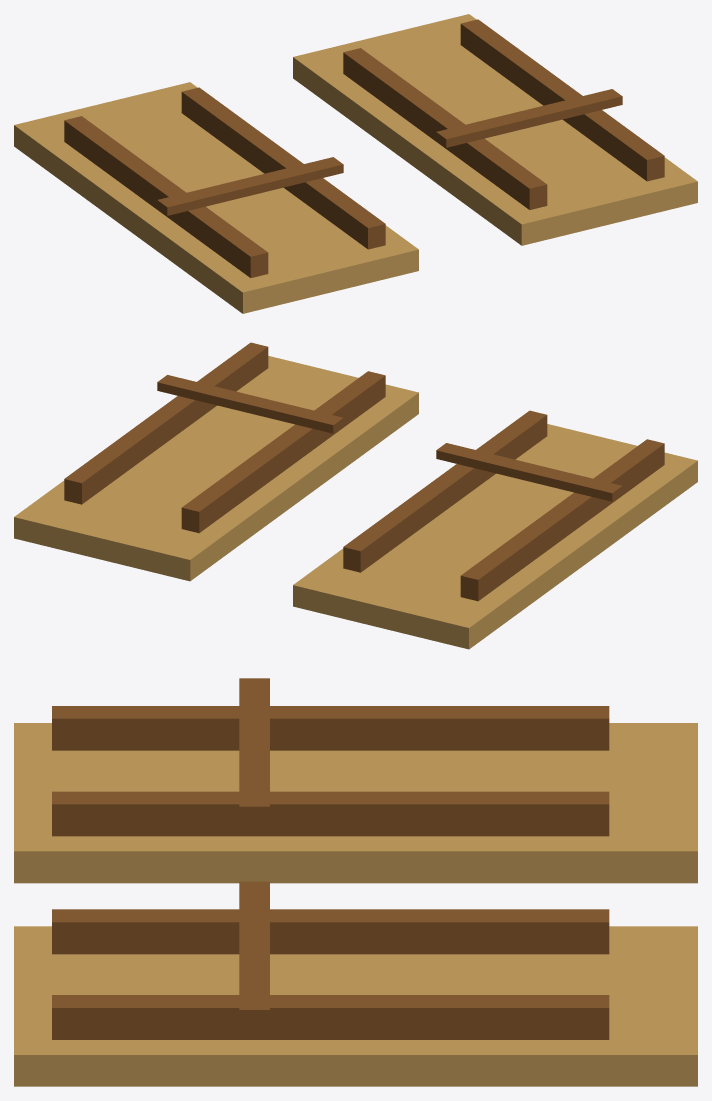
The model's file is shoes_ancient_1.glb.
3 renders of one model, top to bottom at view 1: azimuth 30°, elevation 25°; view 2: azimuth 150°, elevation 25°; view 3: azimuth 270°, elevation 25°, orthographic. The views are drawn at different scales.
Size of the model in its own units: 0.3472 by 0.0374 by 0.3024.
